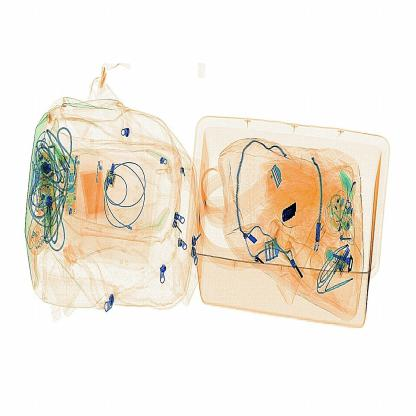knife: (278, 202, 301, 228)
